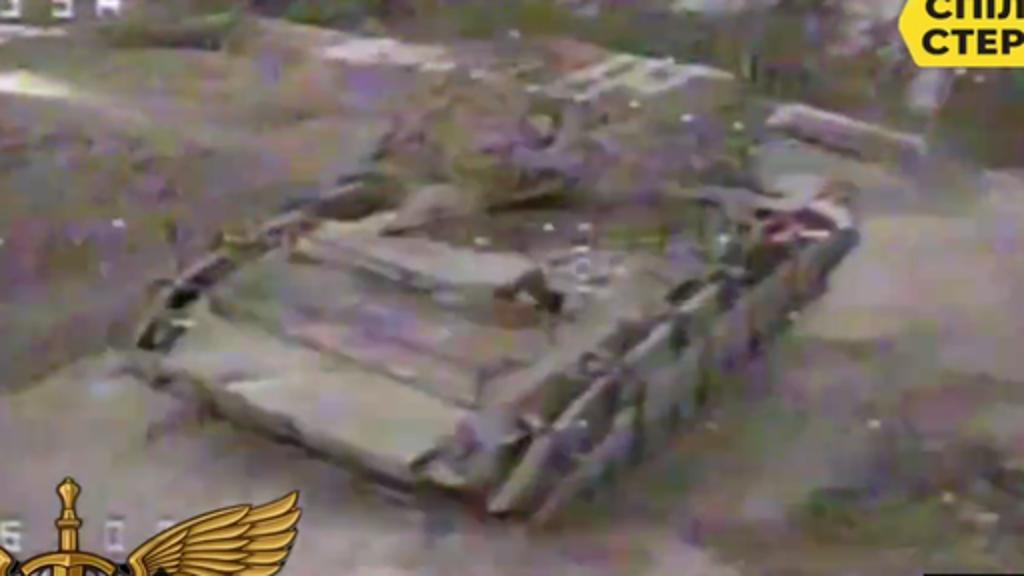APC-IFV: (118, 36, 868, 530)
